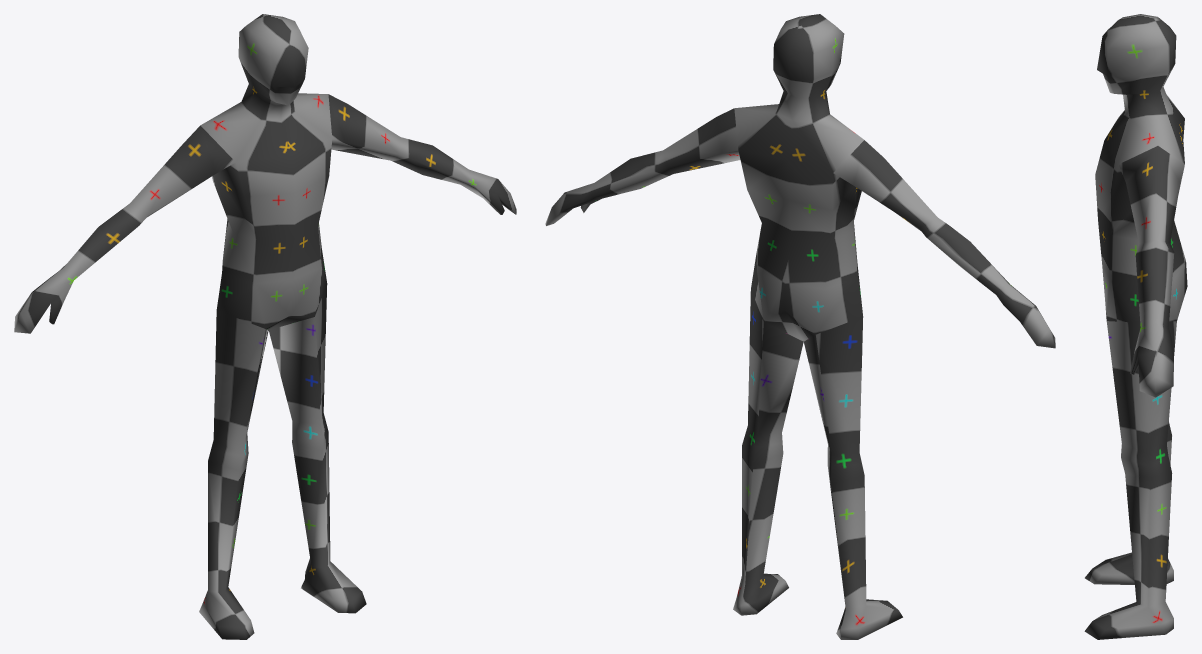
The model's file is Prototyping_Human_Size_Reference_Model.fbx.
3 views of the same model, side by side, from view 1: azimuth 30°, elevation 25°; view 2: azimuth 150°, elevation 25°; view 3: azimuth 270°, elevation 25° (orthographic).
Visible parts, largest first — view 1: HumanTest; view 2: HumanTest; view 3: HumanTest.
Part boxes in pixels (bbox=[...]): HumanTest: bbox=[14, 14, 516, 639]; HumanTest: bbox=[545, 14, 1055, 639]; HumanTest: bbox=[1084, 14, 1187, 639].
Bounding box in the file's own units: 161 × 180 × 28.62.
Materials: 1 (1 with a texture image).
